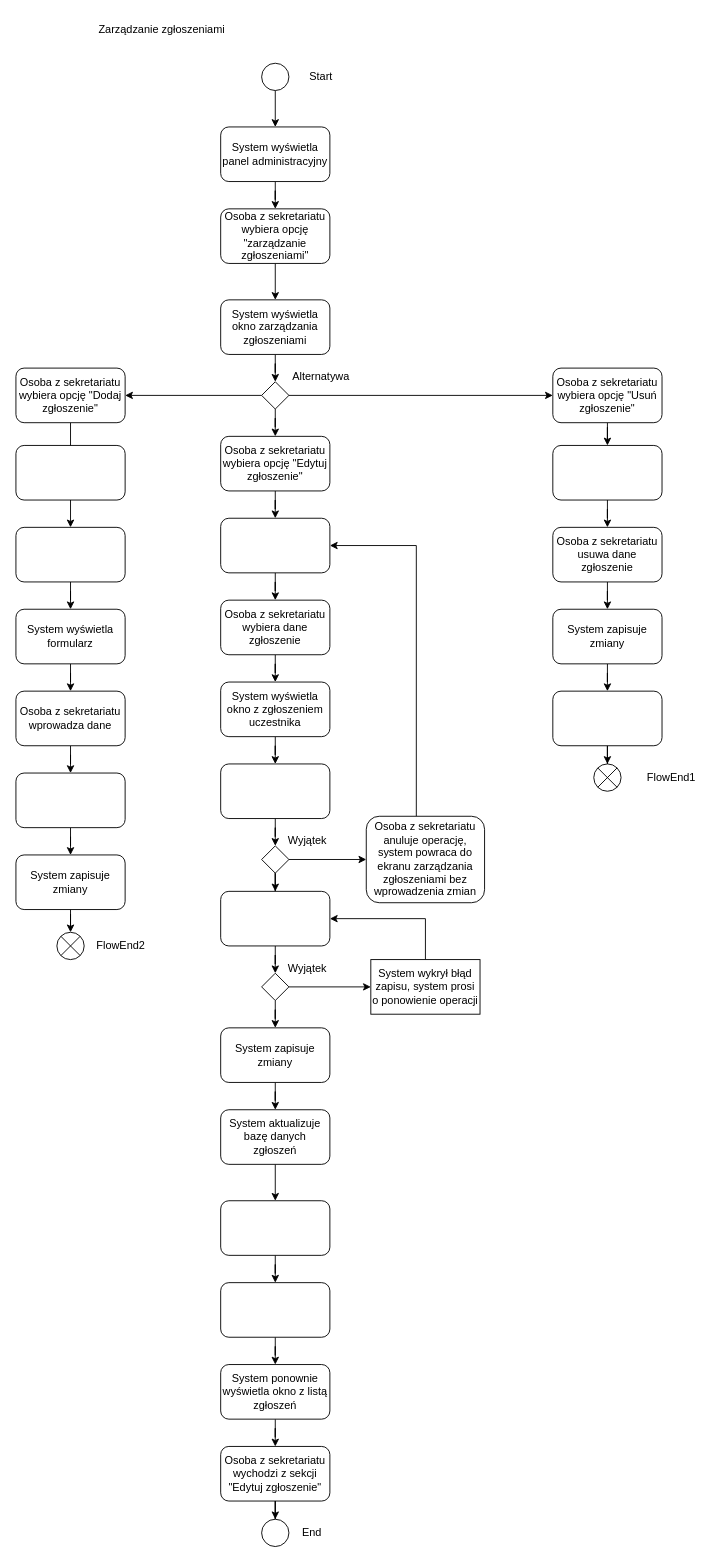
The diagram is 723 pixels wide and 1562 high, and some of its shapes have lost their labels. Each missing label, with the centre of its shape:
"Osoba z sekretariatu wprowadza zmiany" goes at [275,791].
"Osoba z sekretariatu wybiera turniej eliminacyjny" goes at [70,554].
"Osoba z sekretariatu zatwierdza dane" goes at [70,800].
"Osoba z sekretariatu zatwierdza zmiany" goes at [275,918].
"System aktualizuje bazę zgłoszeń" goes at [607,718].
"System wysyła uczestnikowi informację o edycji jego zgłoszenia" goes at [275,1309].
"System wyświetla komunikat o aktualizacji zgłoszenia" goes at [275,1227].
"System wyświetla listę zgłoszeń do usunięcia" goes at [607,472].
"System wyświetla okno z listą zgłoszeń" goes at [275,545].
"System wyświetla okno z turniejami eliminacyjnymi" goes at [70,472].
